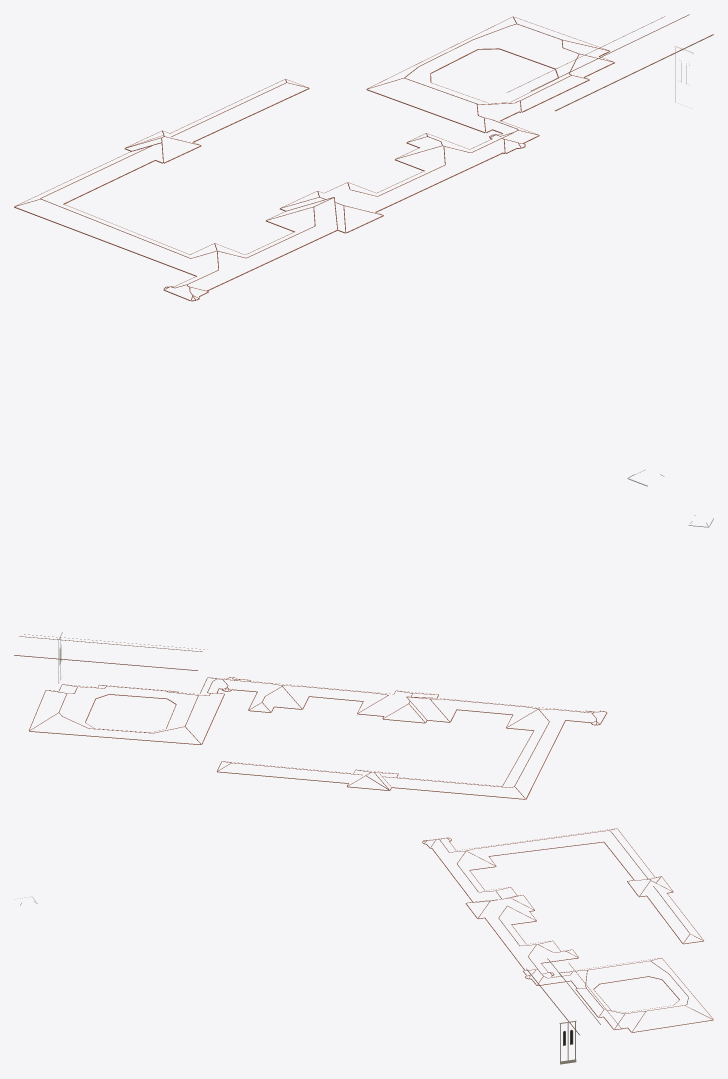
3 renders of one model, top to bottom at view 1: azimuth 30°, elevation 25°; view 2: azimuth 150°, elevation 25°; view 3: azimuth 270°, elevation 25°, orthographic. The views are drawn at different scales.
Visible parts, largest first — view 1: detail; view 2: detail; view 3: detail.
Part boxes in pixels (left/top/right/bottom): detail: left=14, top=14, right=713, bottom=486; detail: left=14, top=515, right=713, bottom=799; detail: left=15, top=828, right=713, bottom=1064.
Bounding box in the file's own units: 298 × 29.81 × 389.
